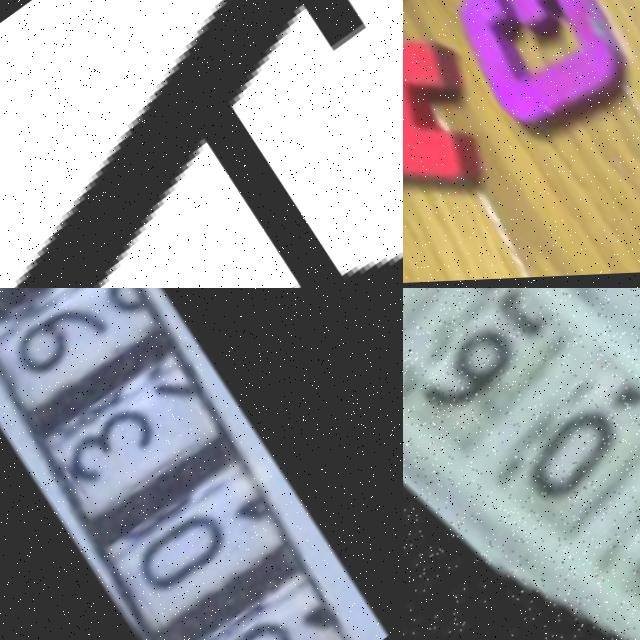0: (487, 378, 640, 551), (123, 500, 249, 616), (190, 609, 318, 640)
1: (602, 476, 640, 621)
3: (54, 399, 177, 508)
6: (403, 293, 565, 459)
9: (2, 288, 119, 395)
A: (0, 0, 403, 288), (403, 0, 535, 244)
G: (433, 0, 640, 157)
